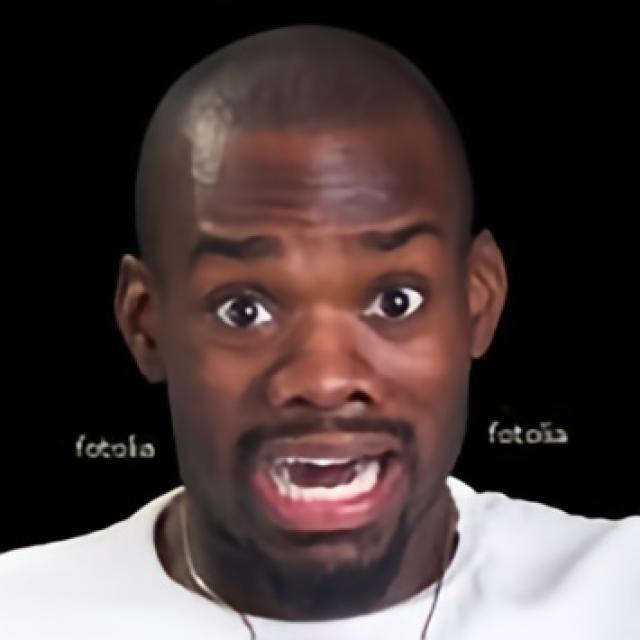fear: (135, 130, 472, 590)
